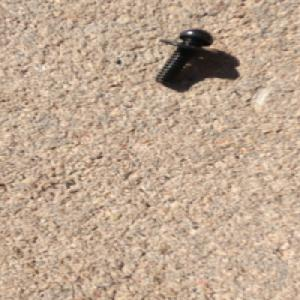BoltWasher: (154, 27, 221, 85)
